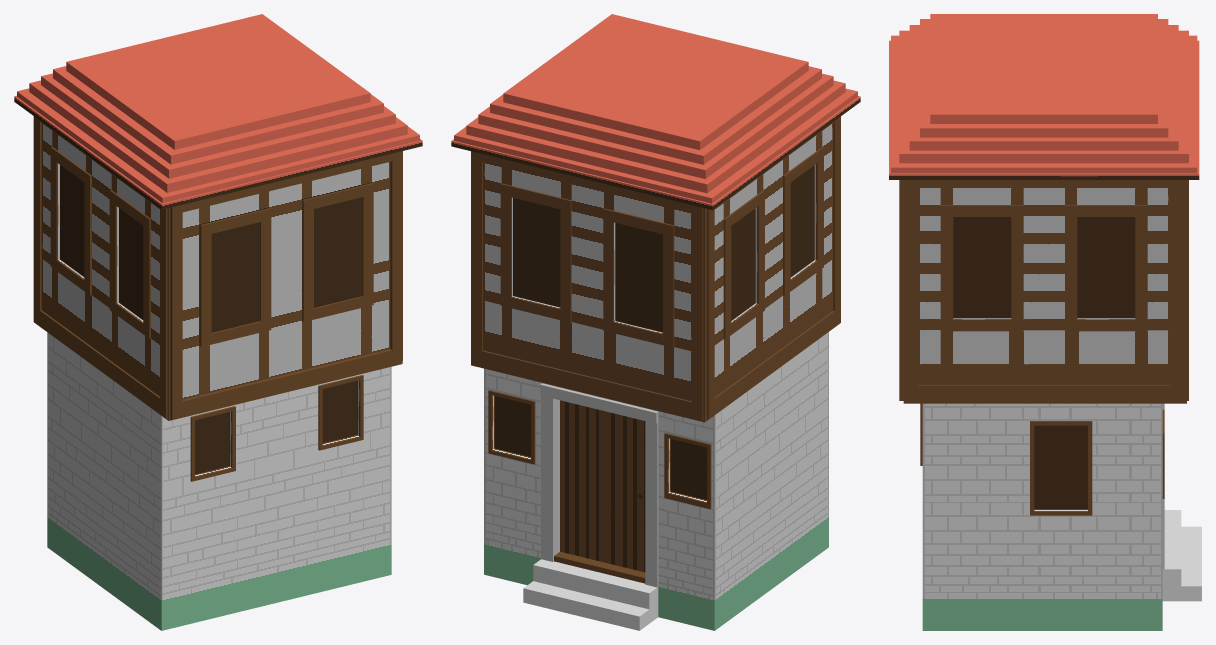
Rendered from ottomans-house0.gltf.
3 views of the same model, side by side, from view 1: azimuth 30°, elevation 25°; view 2: azimuth 150°, elevation 25°; view 3: azimuth 270°, elevation 25° (orthographic). The views are drawn at different scales.
Parts seen in each view (by area): view 1: ottoman-house01upper-Local, ottoman-house01-Local; view 2: ottoman-house01upper-Local, ottoman-house01-Local; view 3: ottoman-house01upper-Local, ottoman-house01-Local.
Boxes of the visible parts, x1=… form: ottoman-house01upper-Local: x1=14, y1=14, x2=422, y2=420; ottoman-house01-Local: x1=47, y1=332, x2=391, y2=630; ottoman-house01upper-Local: x1=451, y1=14, x2=860, y2=422; ottoman-house01-Local: x1=484, y1=332, x2=828, y2=630; ottoman-house01upper-Local: x1=889, y1=14, x2=1199, y2=403; ottoman-house01-Local: x1=920, y1=403, x2=1201, y2=630.
Size of the model in its own units: 153 by 271 by 151.
2 materials, 2 textured.
